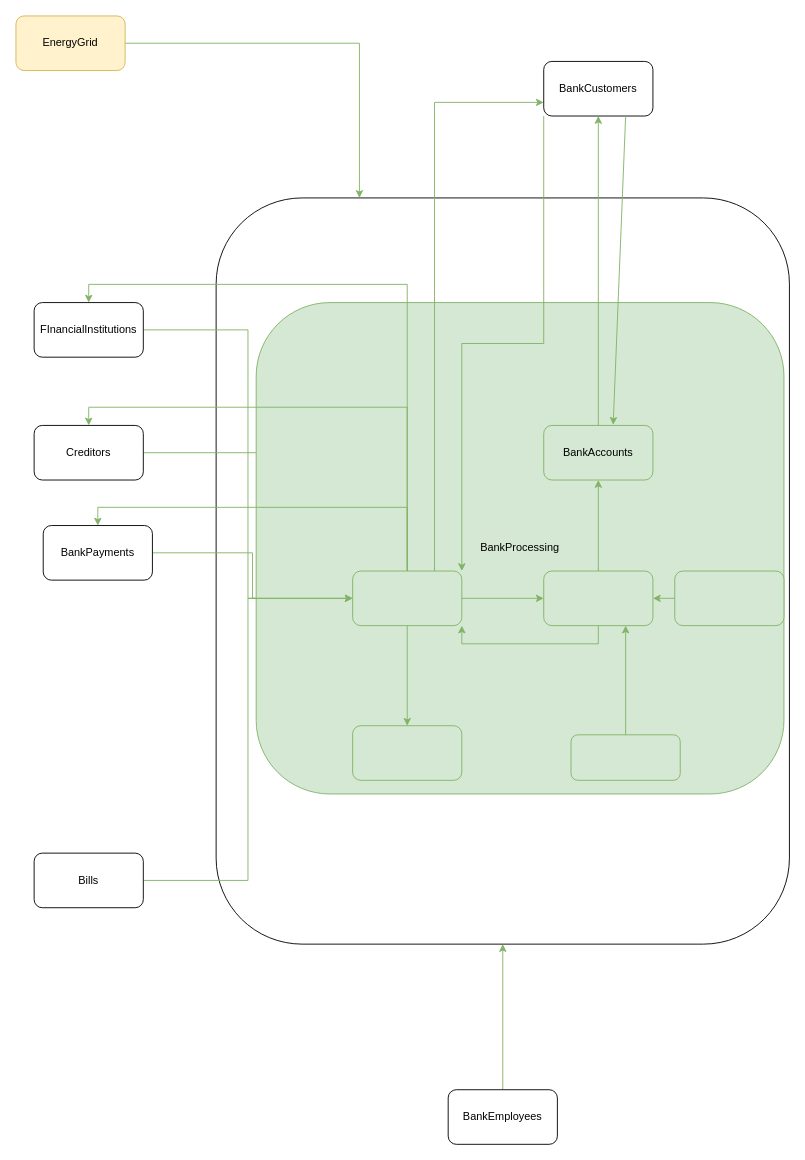
Image size: 805x1160. Some labels were removed from this diagram. Each missing label, with the centre of its shape:
"Balance" belongs at (x=598, y=598).
"BankTransactions" belongs at (x=407, y=598).
"Fees" belongs at (x=729, y=598).
"Interest" belongs at (x=625, y=757).
"Records" belongs at (x=407, y=752).
